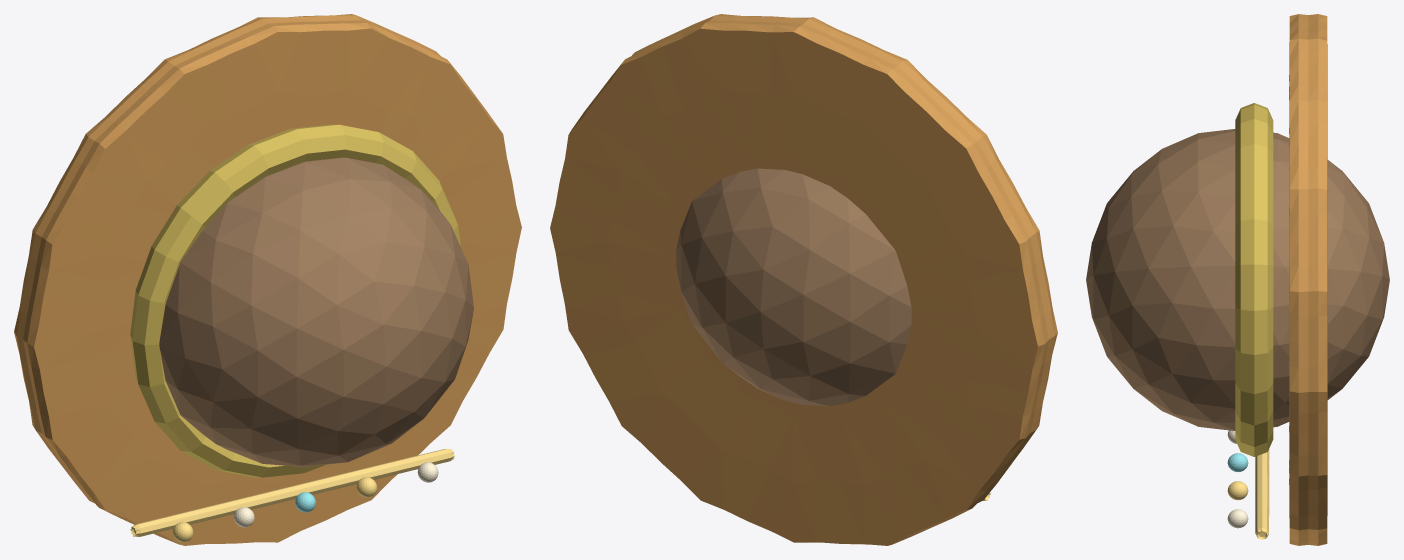
Rendered from sombrero-aventurero.glb.
The picture shows the model from 3 angles, left to right: view 1: azimuth 30°, elevation 25°; view 2: azimuth 150°, elevation 25°; view 3: azimuth 270°, elevation 25°; orthographic projection. The views are drawn at different scales.
Parts seen in each view (by area): view 1: sombrero-aventurero_01, sombrero-aventurero_00, sombrero-aventurero_02, Detalle_01; view 2: sombrero-aventurero_01, sombrero-aventurero_00; view 3: sombrero-aventurero_00, sombrero-aventurero_01, sombrero-aventurero_02, Detalle_01.
Part boxes in pixels (x1,y1,x2,y2): sombrero-aventurero_01: (14, 14, 521, 545); sombrero-aventurero_00: (159, 157, 473, 466); sombrero-aventurero_02: (130, 124, 460, 477); Detalle_01: (130, 449, 454, 536); sombrero-aventurero_01: (550, 14, 1057, 545); sombrero-aventurero_00: (676, 168, 911, 406); sombrero-aventurero_00: (1086, 129, 1389, 430); sombrero-aventurero_01: (1289, 14, 1327, 545); sombrero-aventurero_02: (1235, 103, 1273, 456); Detalle_01: (1255, 449, 1269, 539).
Bounding box in the file's own units: 0.766 × 0.766 × 0.4372.
